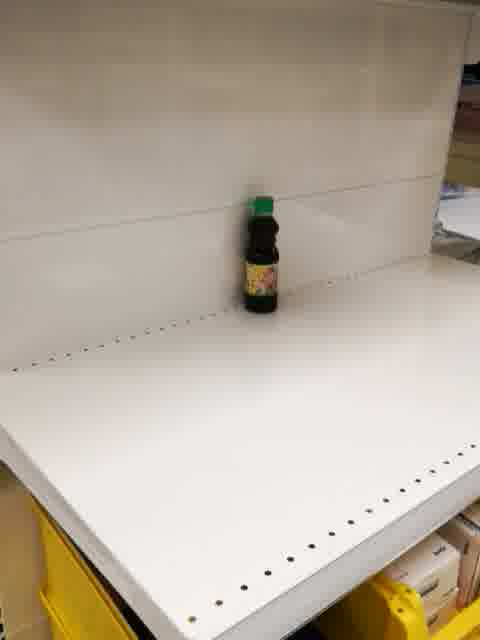cookingoil: (241, 193, 281, 315)
